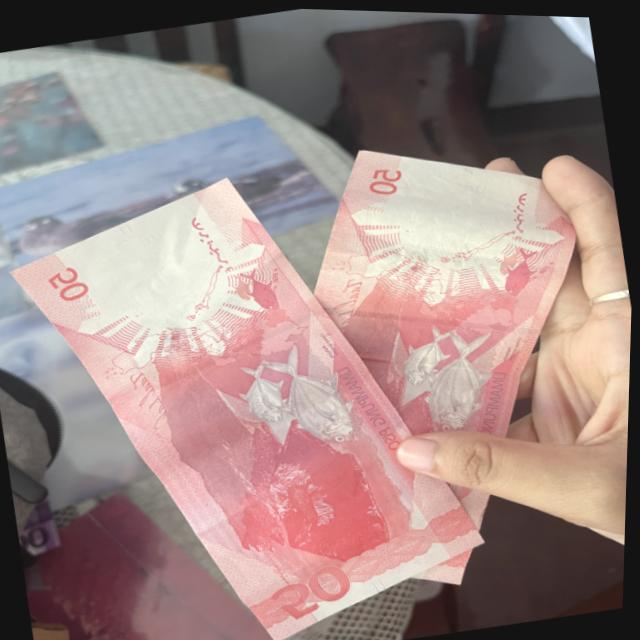50_maliputo: (387, 309, 520, 448), (231, 330, 368, 458)
50_maliputo_watermark: (488, 230, 562, 300), (226, 254, 295, 320)
value_watermark: (133, 219, 176, 252), (459, 167, 495, 197)
watermark: (64, 211, 234, 334)
